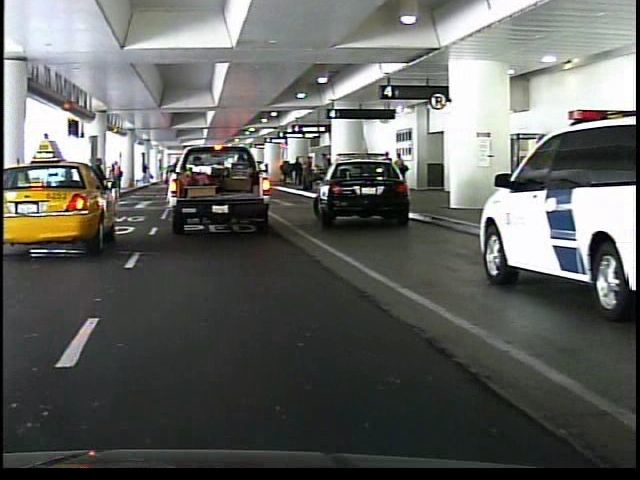person: (89, 156, 113, 224), (172, 151, 173, 204)
